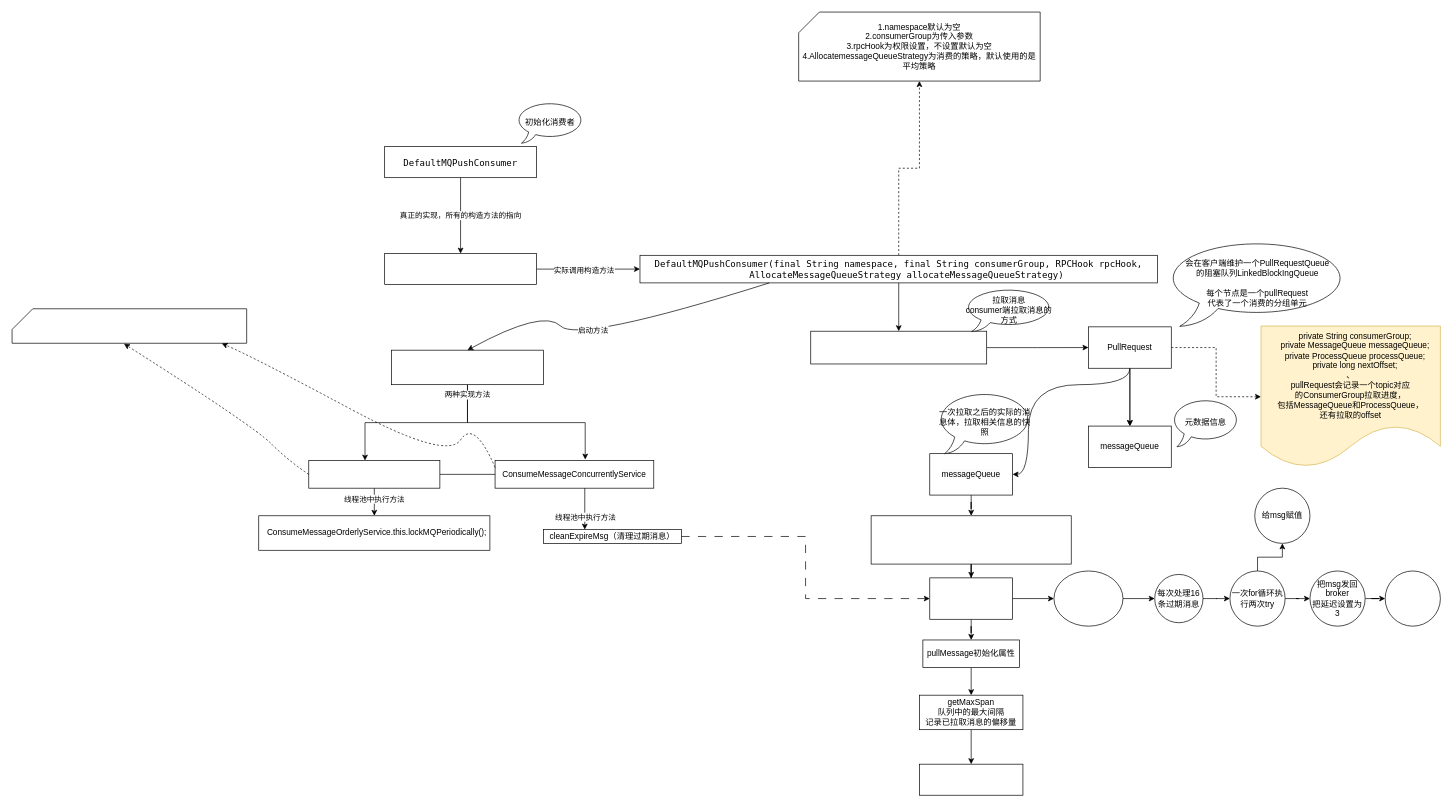
Some shapes in this 1452 by 807 pixel diagram are drawn without their labels. The box of each missing label's shape, as (x1, y1, x2, y2) in pixels:
1.两个对象都是设置一些值 2.设置了一些线程池: (11, 308, 247, 343)
ConsumeMessageOrderlyService: (308, 460, 440, 488)
DefaultMQPushConsumerImpl: (384, 253, 536, 285)
defaultMQPushConsumerImpl.start(): (391, 349, 543, 385)
isLockExpired 顺序消费的时候使用，消费之前会判断一下processQueue锁定的时间是否超过阈值 如果没有超过，代表还是持有锁: (870, 515, 1071, 564)
pullMessage(final PullRequest pullRequest): (810, 331, 987, 364)
removeMessage 从msgTreeMap中移除消息: (919, 763, 1023, 795)
是否是顺序消费，顺序消费不清理: (1053, 570, 1123, 626)
清理过期消息: (929, 577, 1013, 619)
移除消息: (1384, 570, 1440, 626)
